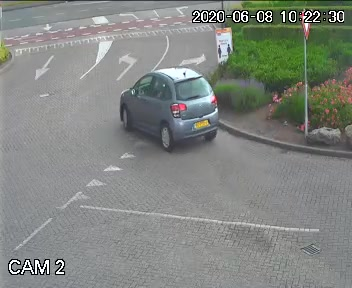car: (102, 53, 226, 179)
